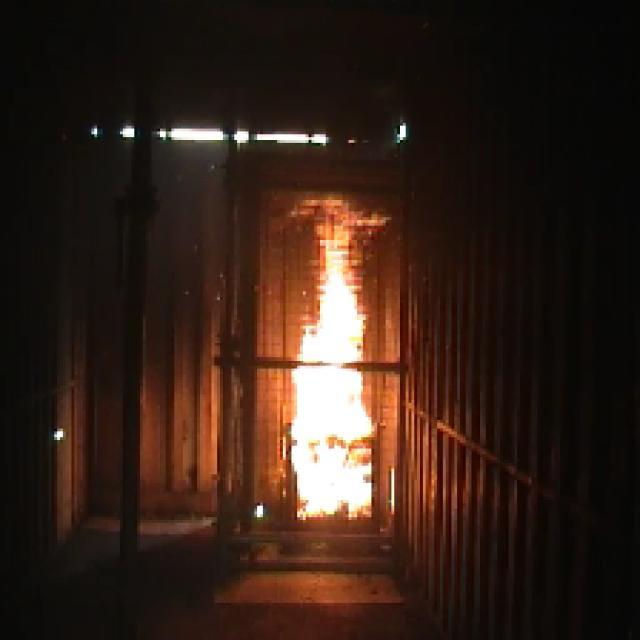Fire: (298, 193, 372, 512)
